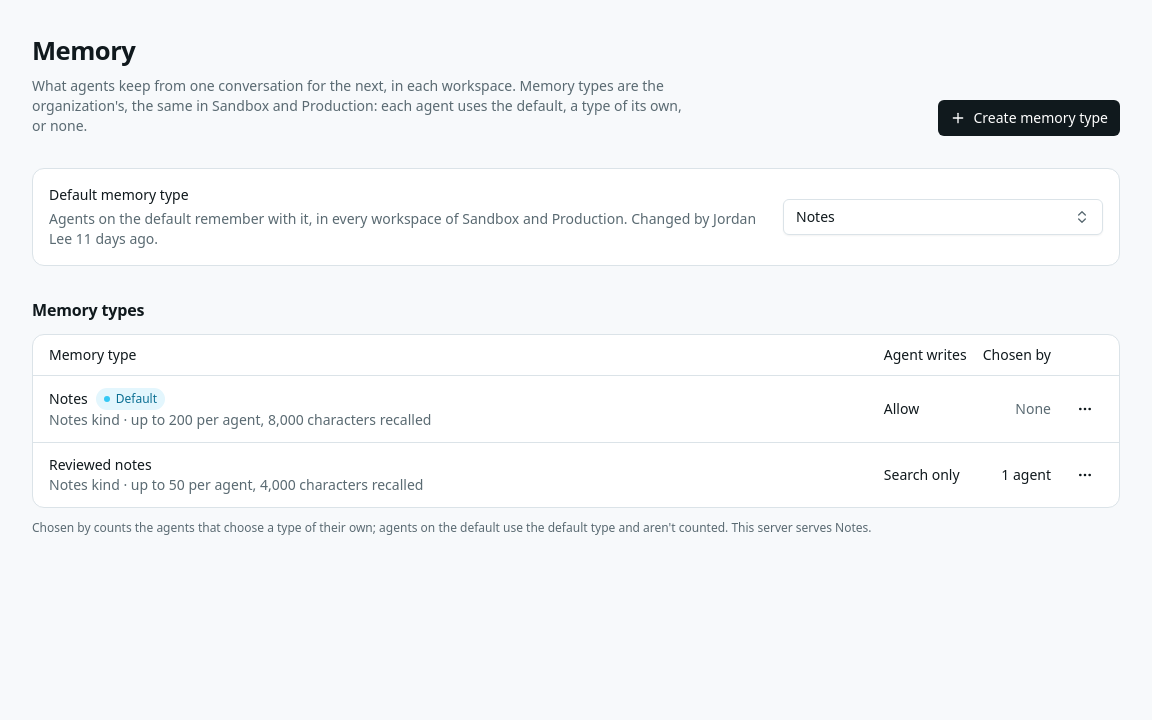
the Memory page › creating a type › puts the server's refusals on their fields
Click the button "Create memory type" at (1029, 118), box [938, 100, 1120, 136]
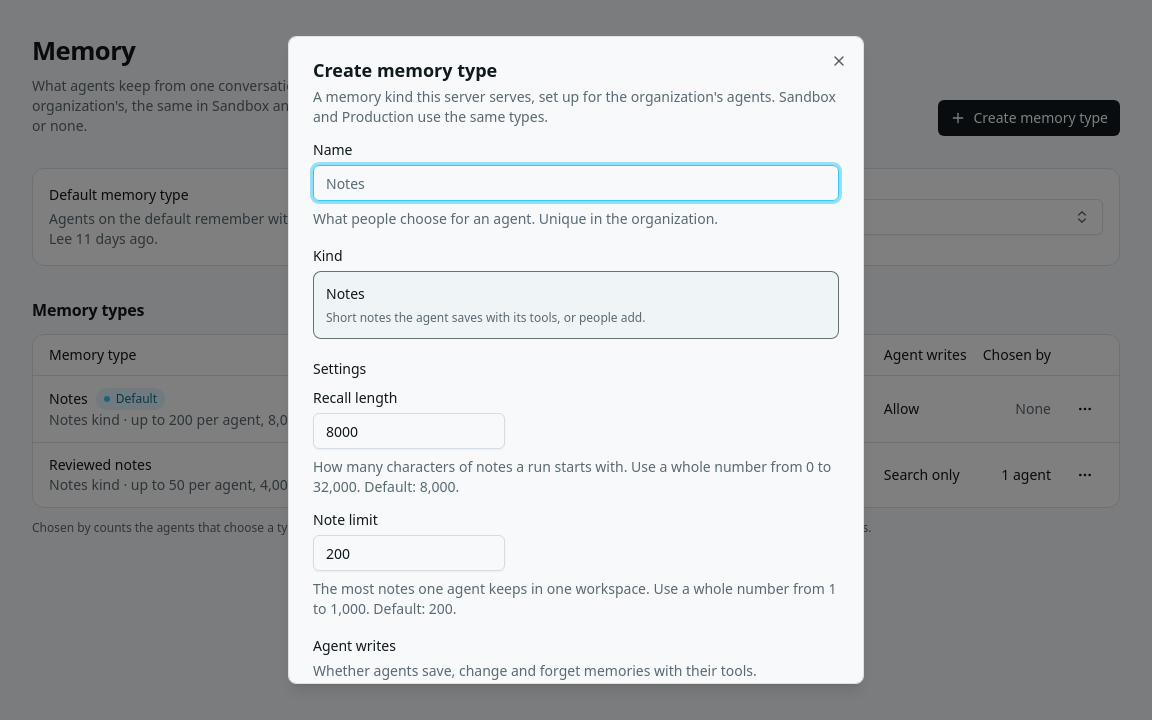
Type "Team notes" into the field labelled "Name" at (576, 183), box [313, 165, 839, 201]
(page scrolled)
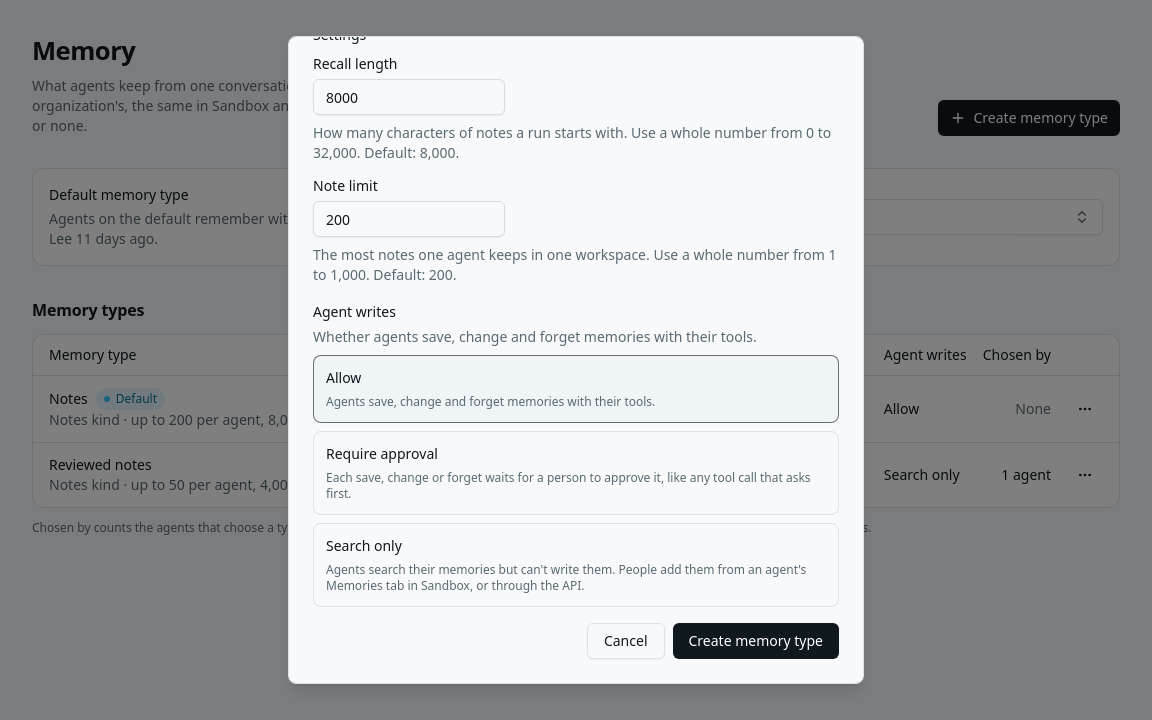
Click the button "Create memory type" at (756, 641), box [672, 623, 839, 659]
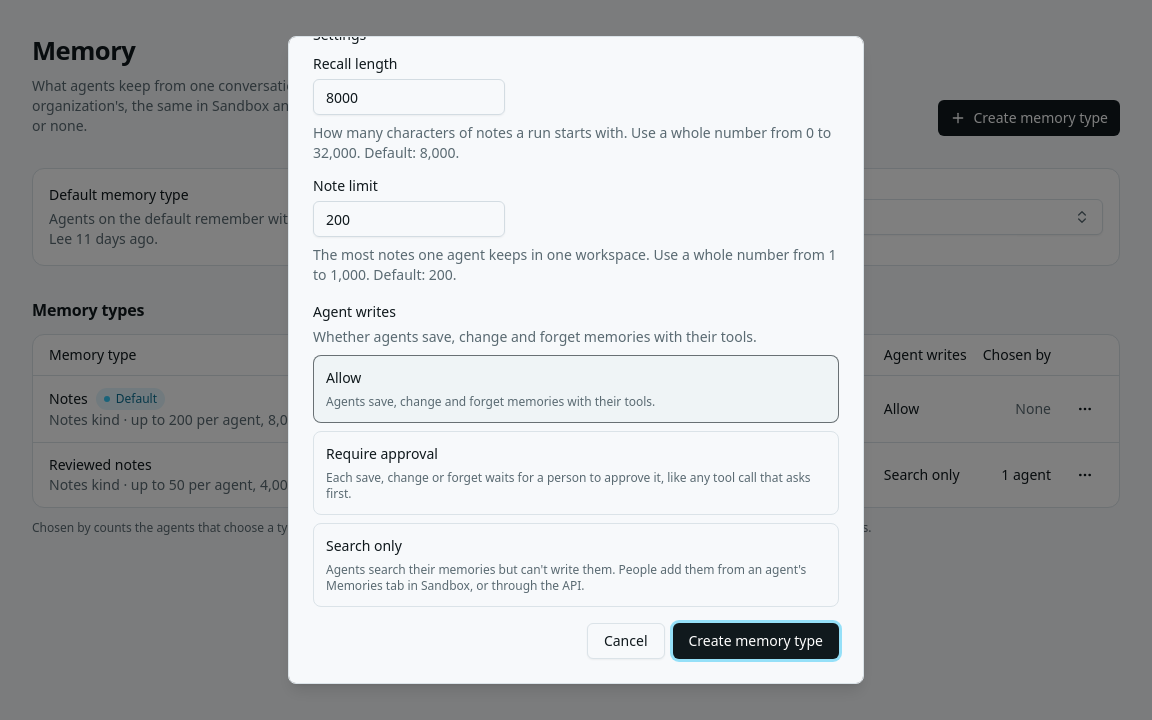
Click the button "Create memory type" at (756, 641), box [672, 623, 839, 659]
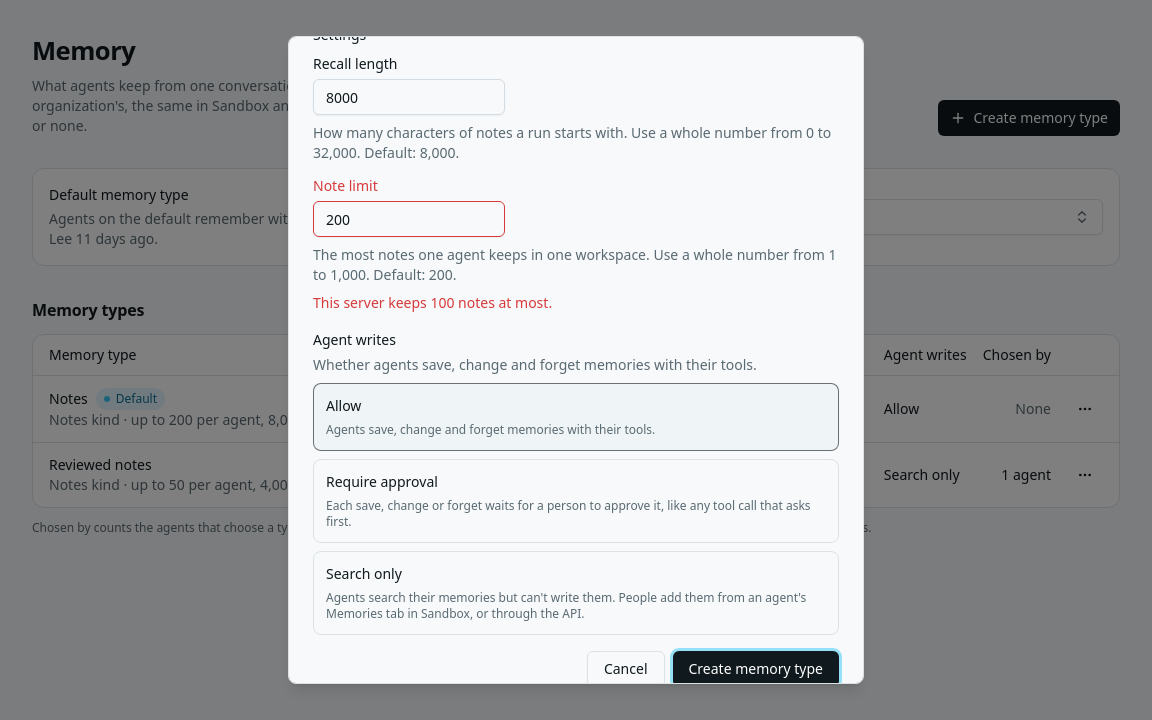
Check: the text "This server keeps 100 notes at most." is shown, box [313, 293, 552, 312]
